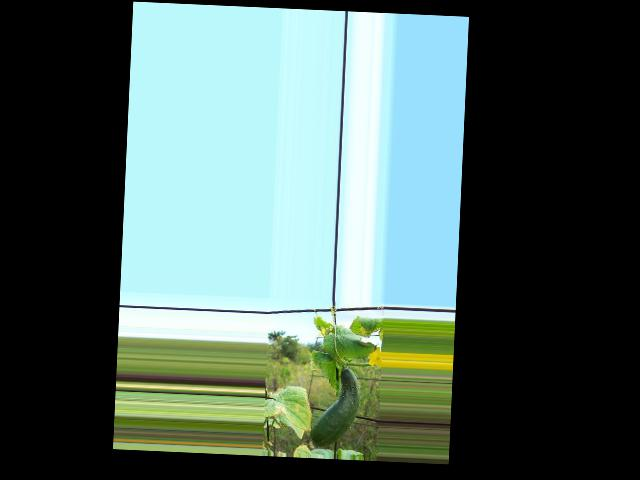cucumber: (308, 366, 361, 448)
